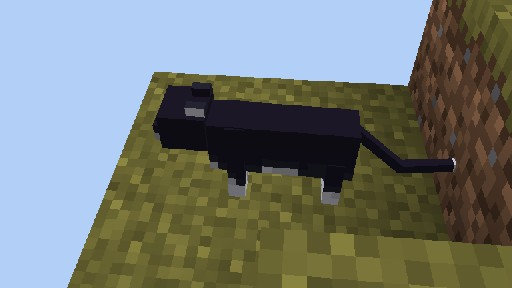cat: (151, 81, 473, 204)
